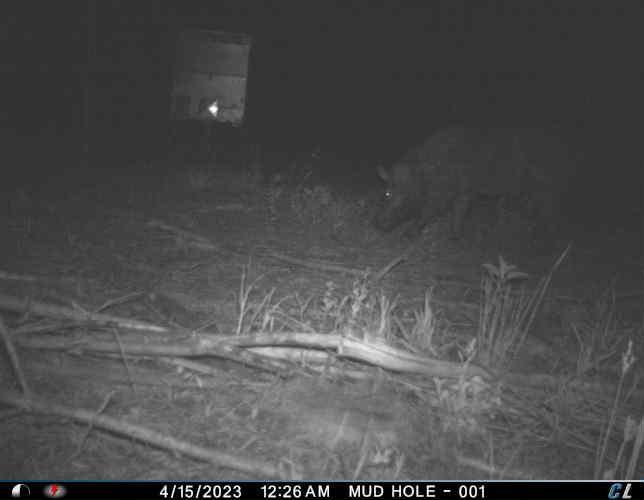Hog: (368, 118, 583, 247)
